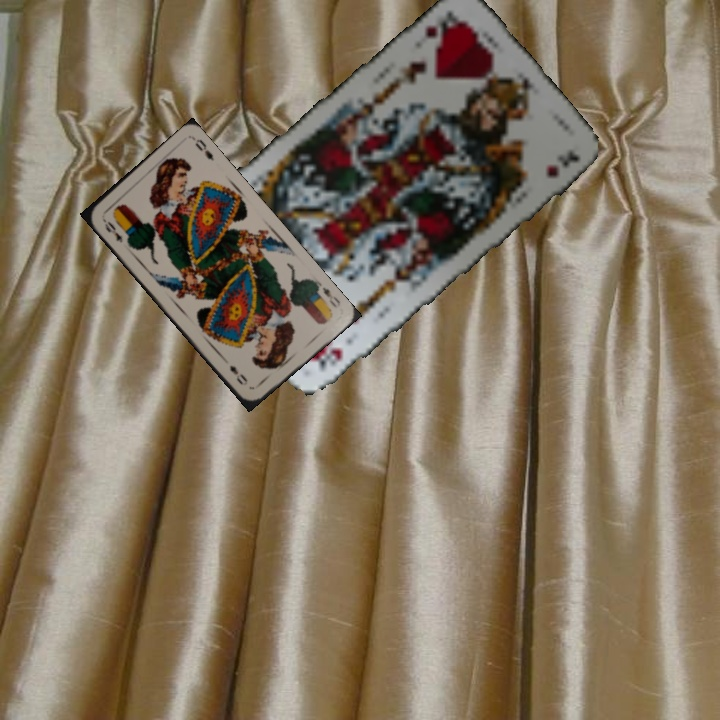EO: (312, 278, 343, 313), (98, 214, 125, 245)
HK: (415, 7, 466, 48), (310, 342, 346, 373)
